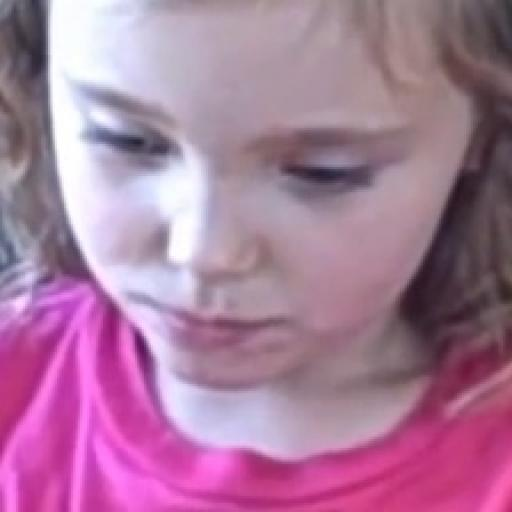Autism: (29, 29, 512, 450)
